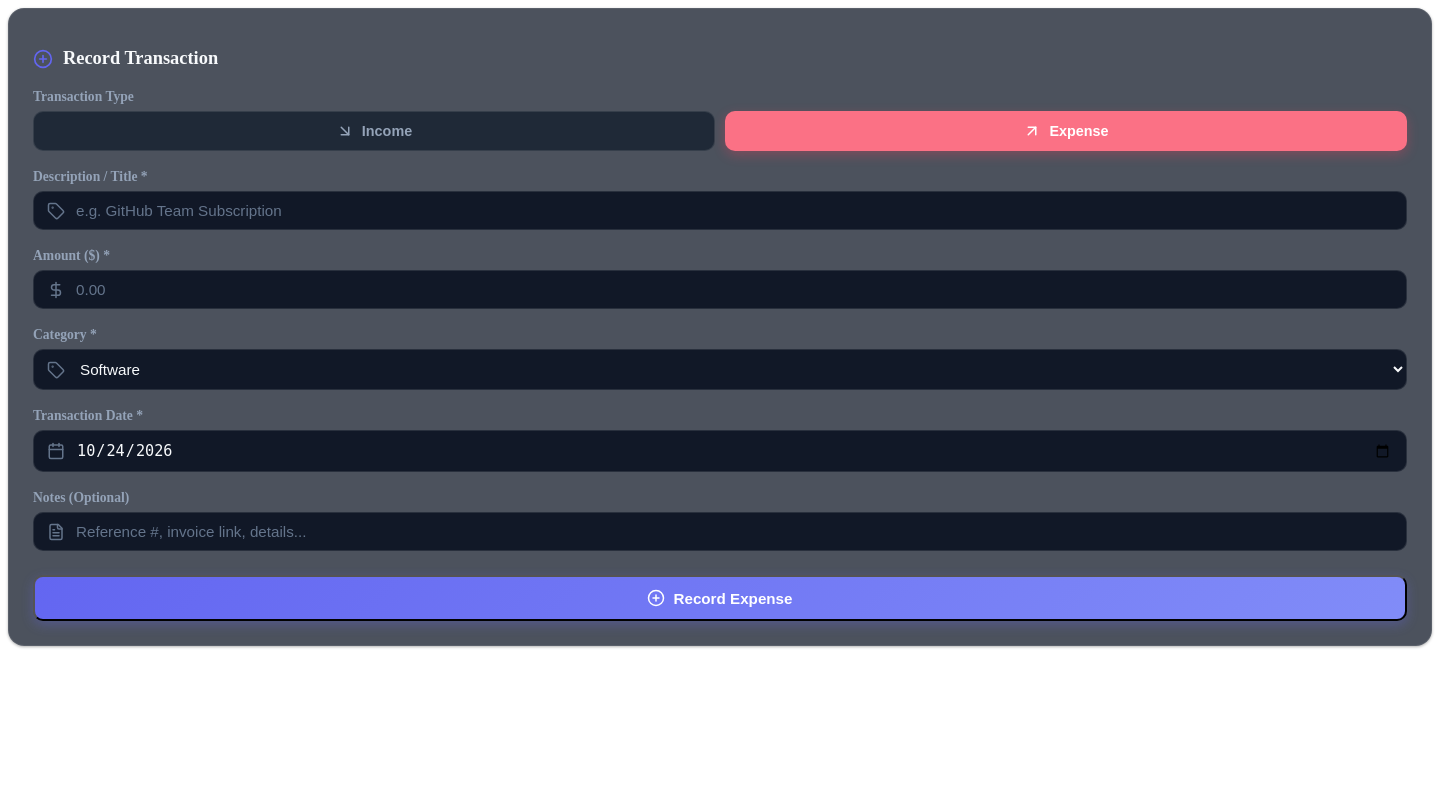
Test case: TransactionForm Component › successfully submits valid transaction and resets form inputs
Type "Vercel Pro Team" into the field with test id "title-input" at (720, 211), box x1=33 y1=191 x2=1407 y2=230
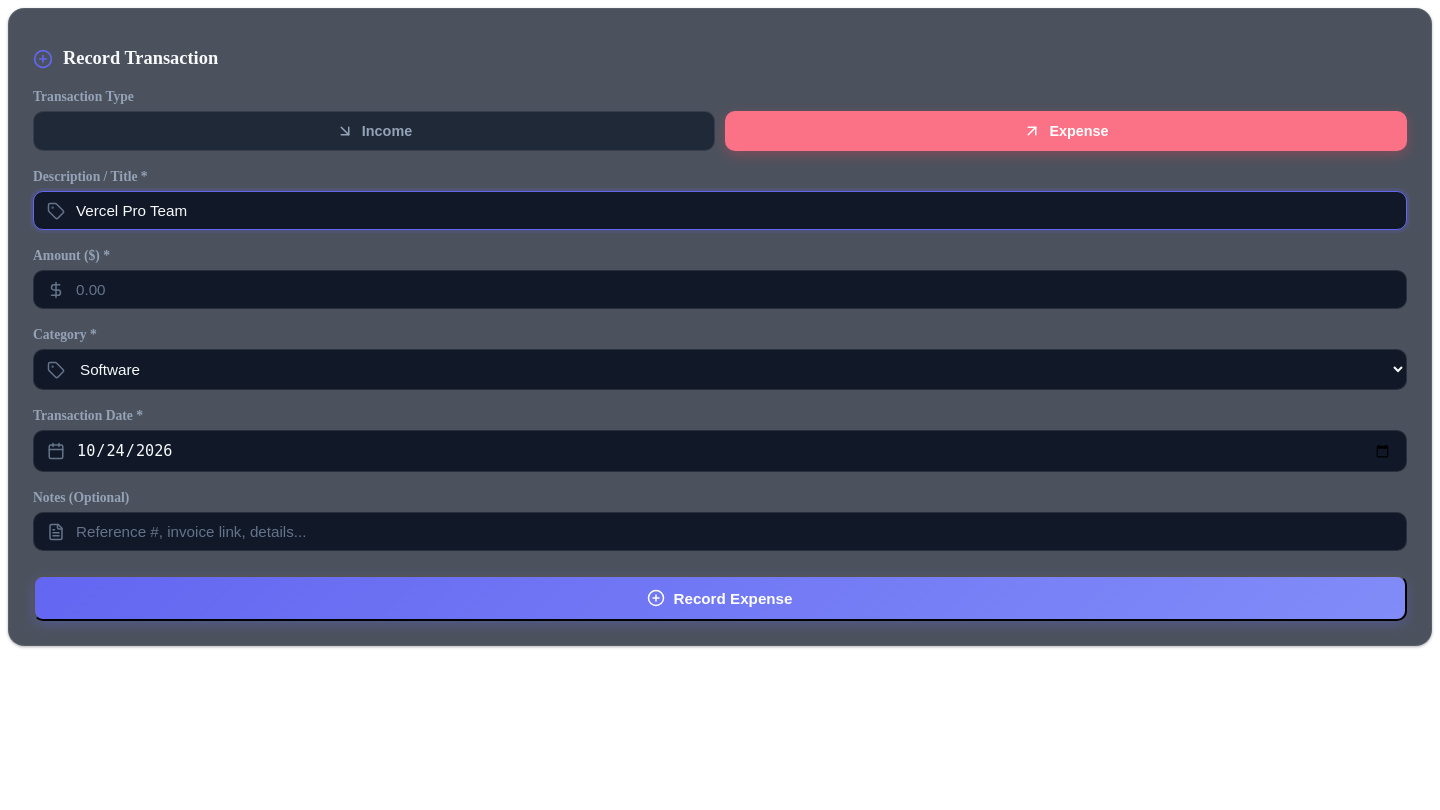
Type "40" into the number field with test id "amount-input" at (720, 290), box x1=33 y1=270 x2=1407 y2=309
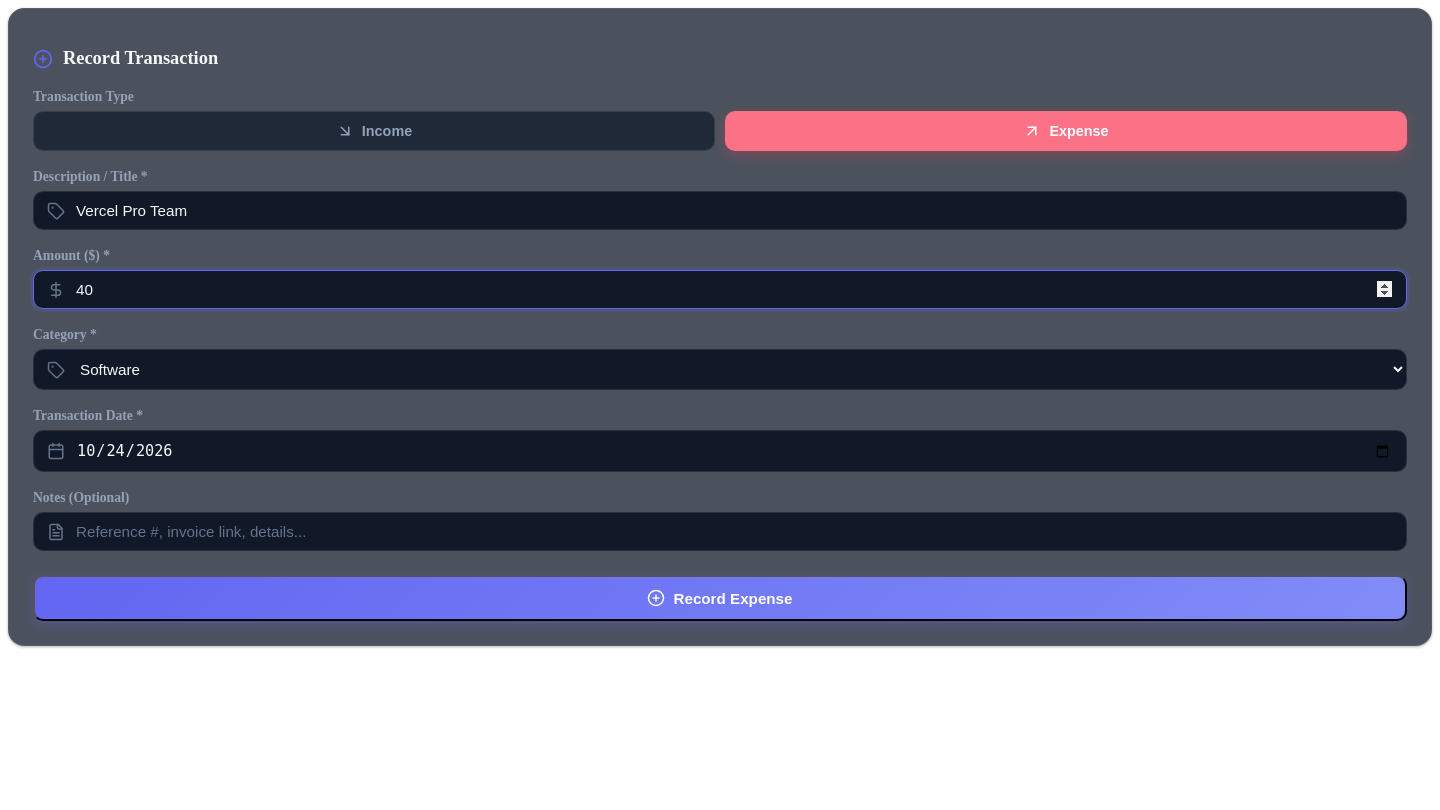
Type "Frontend preview branches" into the field with test id "notes-input" at (720, 532), box x1=33 y1=512 x2=1407 y2=551
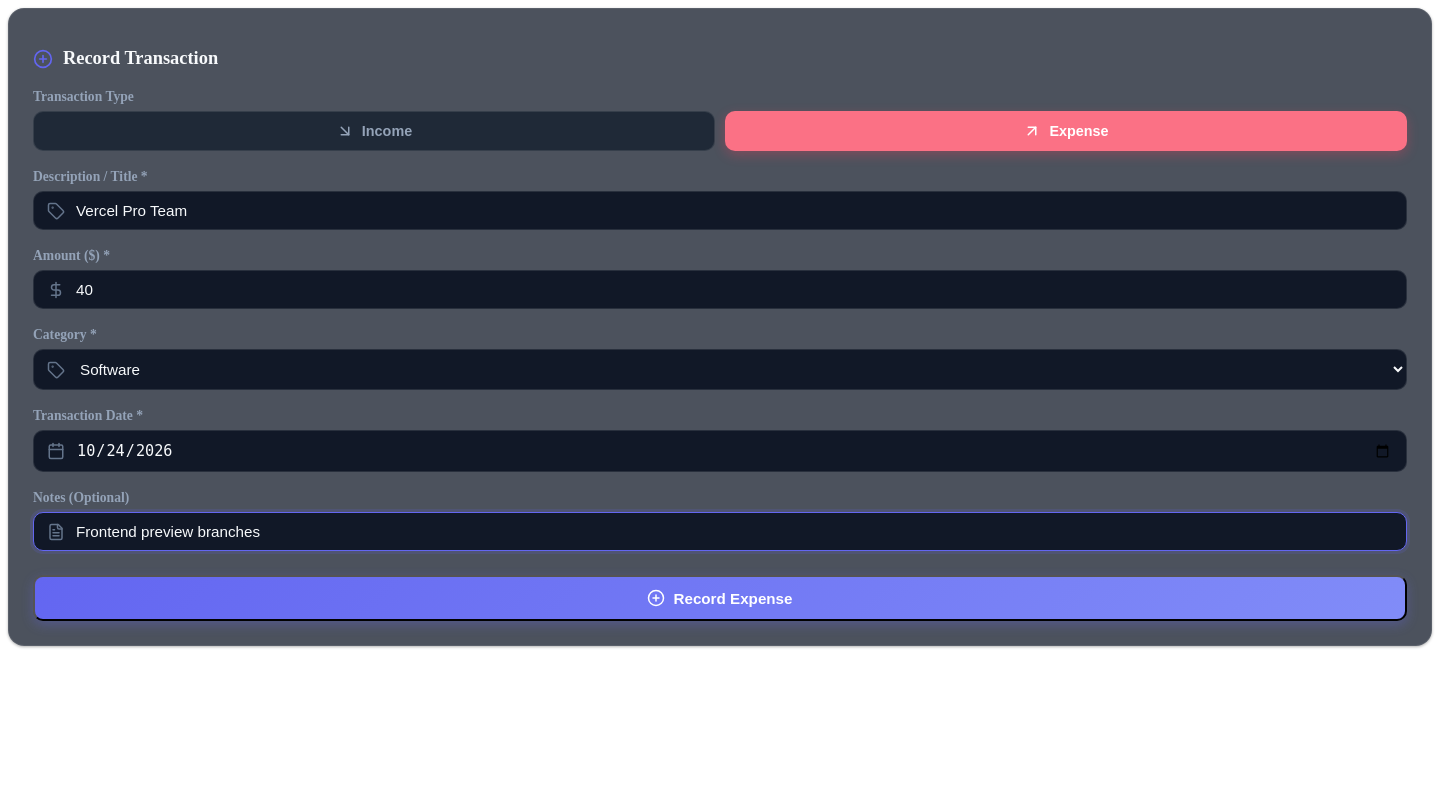
Click the button with test id "submit-transaction-btn" at (720, 598), box x1=33 y1=575 x2=1407 y2=621
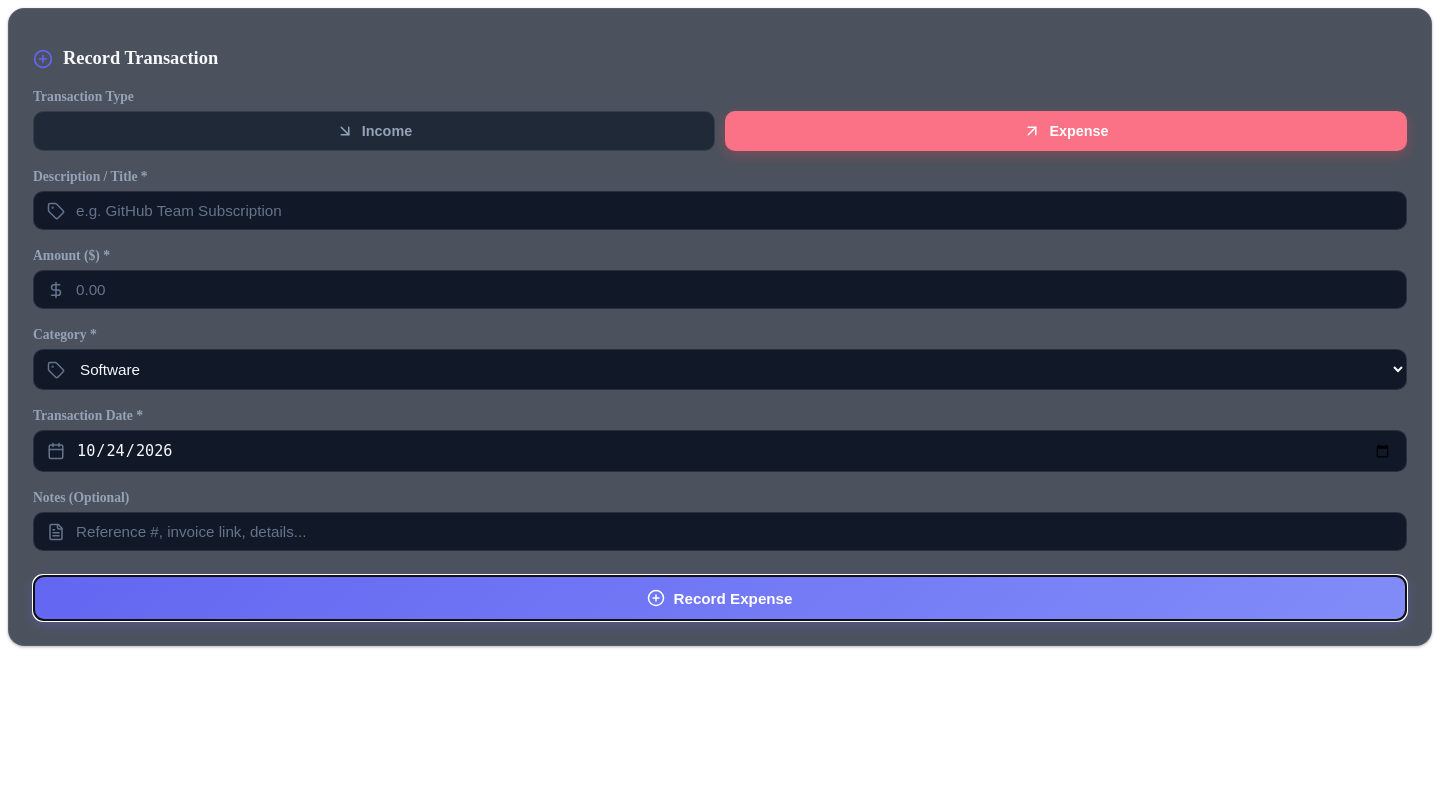
Check: the field with test id "title-input" is empty, box x1=33 y1=191 x2=1407 y2=230
Check: the number field with test id "amount-input" is not empty, box x1=33 y1=270 x2=1407 y2=309
